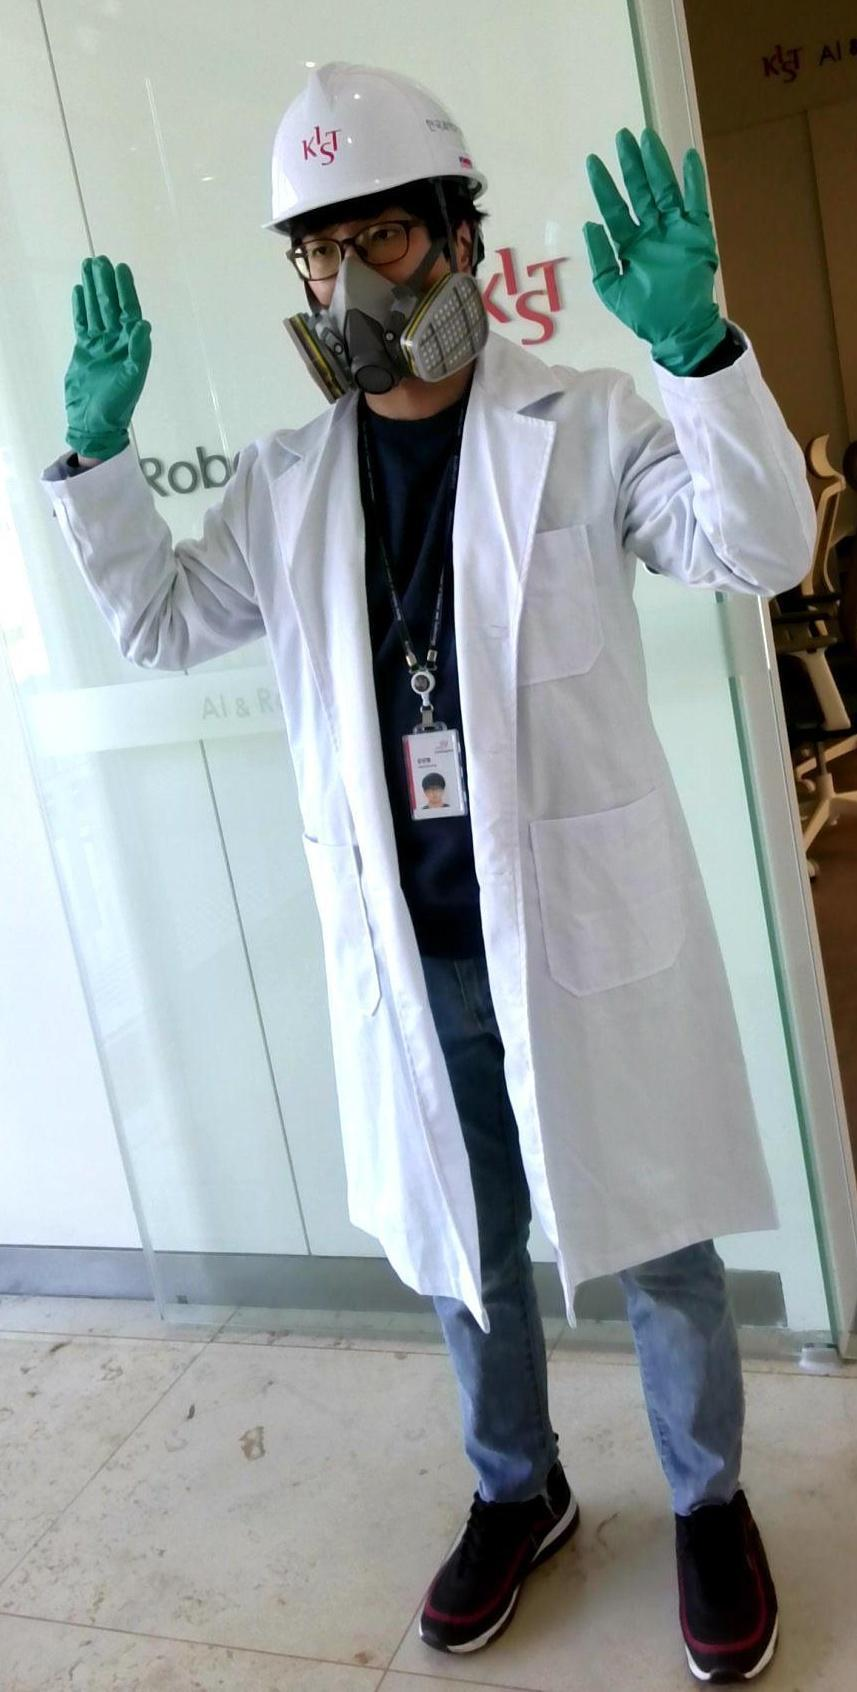lab_coat: (204, 403, 754, 1286)
